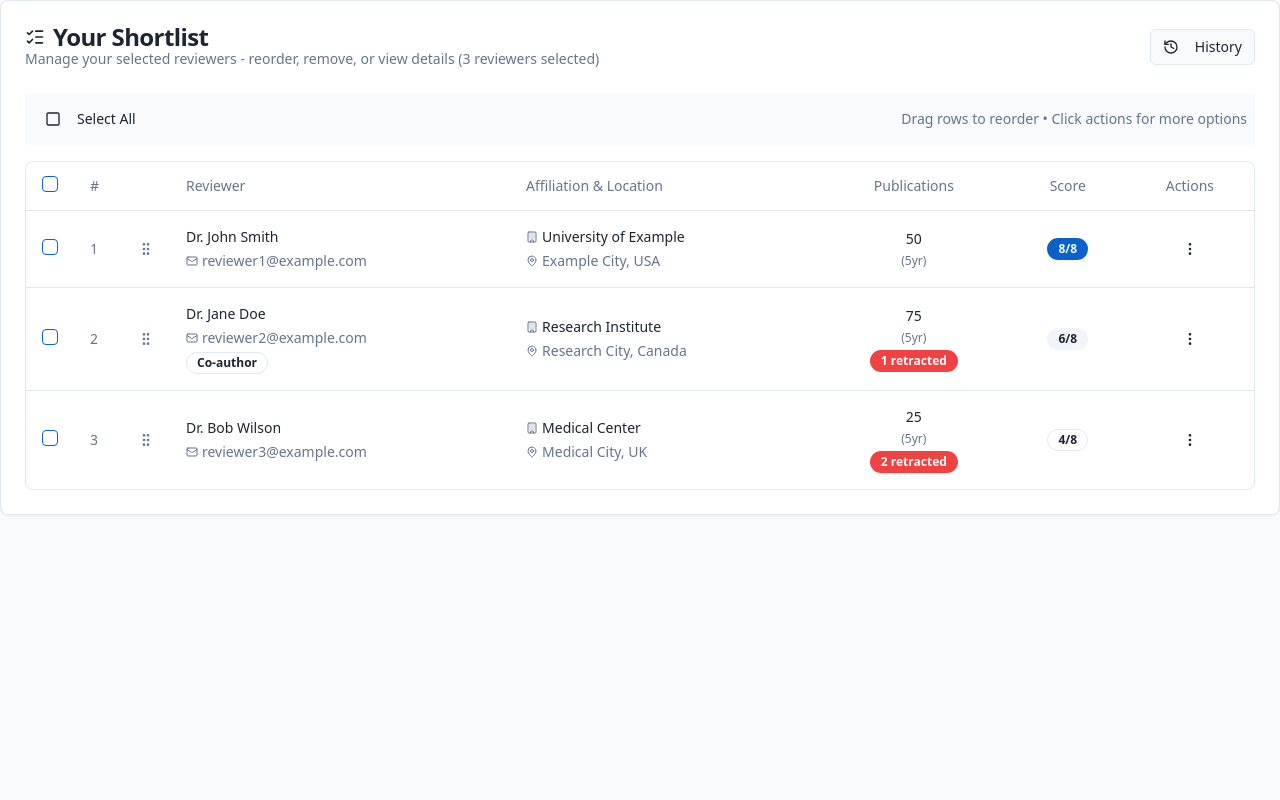
ShortlistManager › displays selection history when history button is clicked
Note: Click history button
What coordinates should you click on to do the following:
click the button "History"
I would click on:
 (1202, 47)
Its box is [1150,29,1255,65].
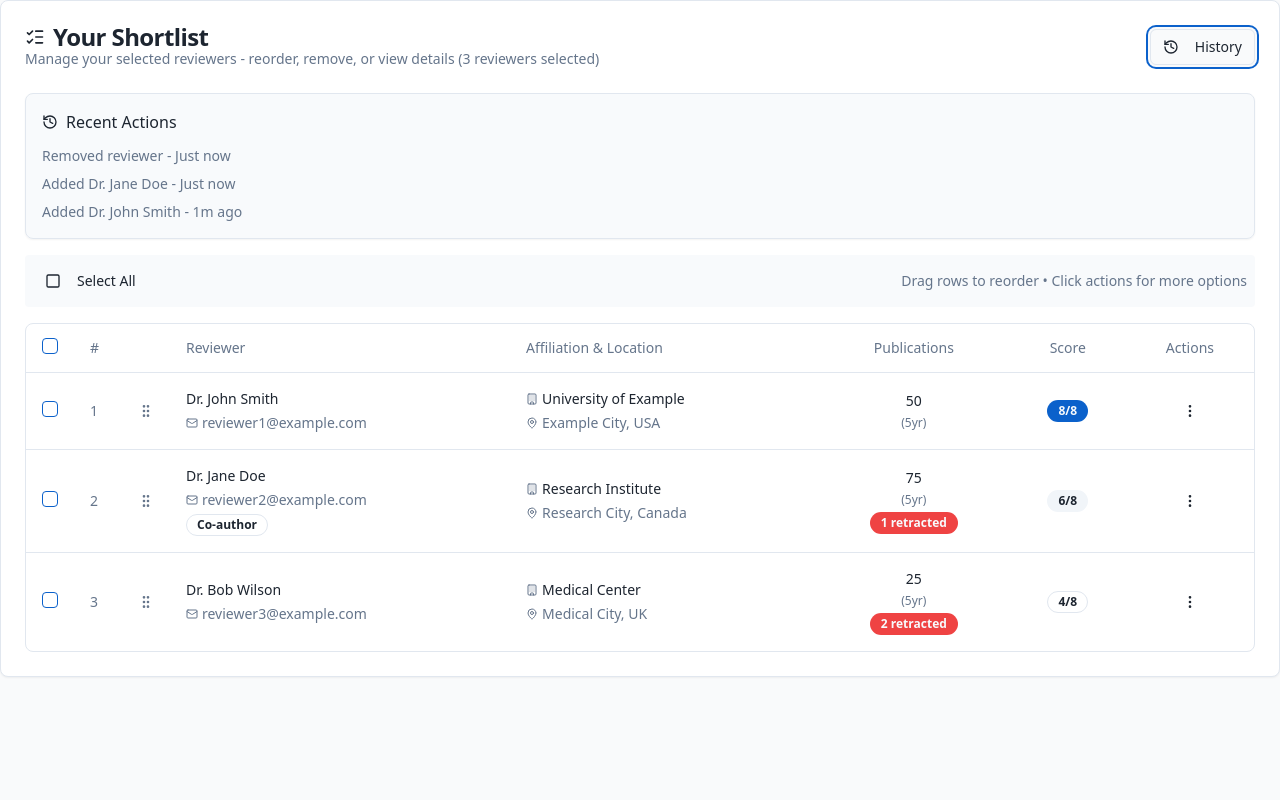
Now the heading "Recent Actions" is shown, box [42,111,176,133]
Now the text "Added Dr. John Smith - 1m ago" is shown, box [42,202,242,221]
Now the text "Added Dr. Jane Doe - Just now" is shown, box [42,174,235,193]
